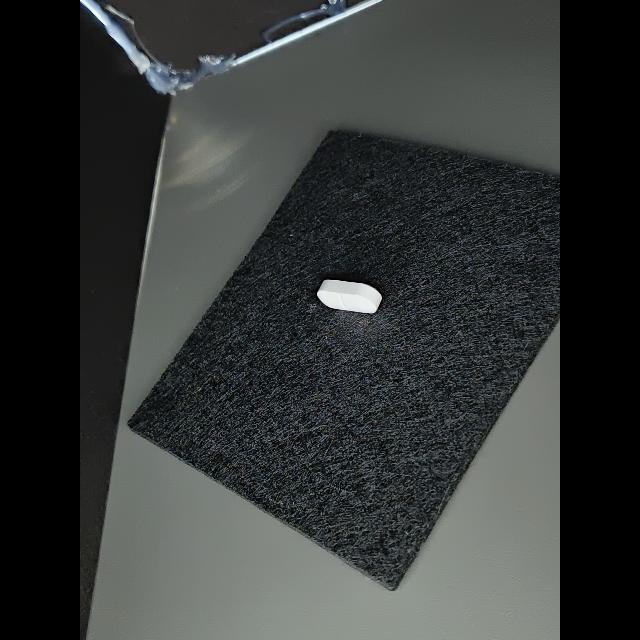Intact Pill: (317, 279, 382, 313)
